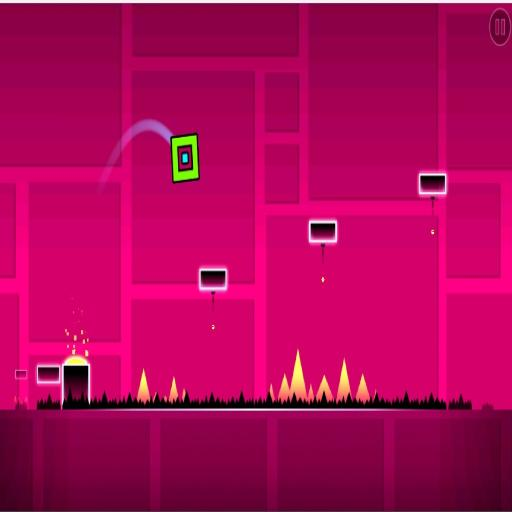block: (61, 363, 90, 401), (199, 269, 226, 294), (418, 175, 448, 197), (310, 222, 336, 240), (37, 365, 60, 382), (15, 369, 27, 379)
player: (170, 134, 199, 182)
spike: (290, 349, 307, 400), (337, 359, 350, 401), (317, 376, 333, 402), (137, 369, 149, 402), (356, 375, 369, 403), (278, 375, 289, 402), (169, 378, 178, 403), (270, 385, 275, 402), (308, 385, 313, 402), (182, 388, 186, 400), (374, 390, 377, 400)
